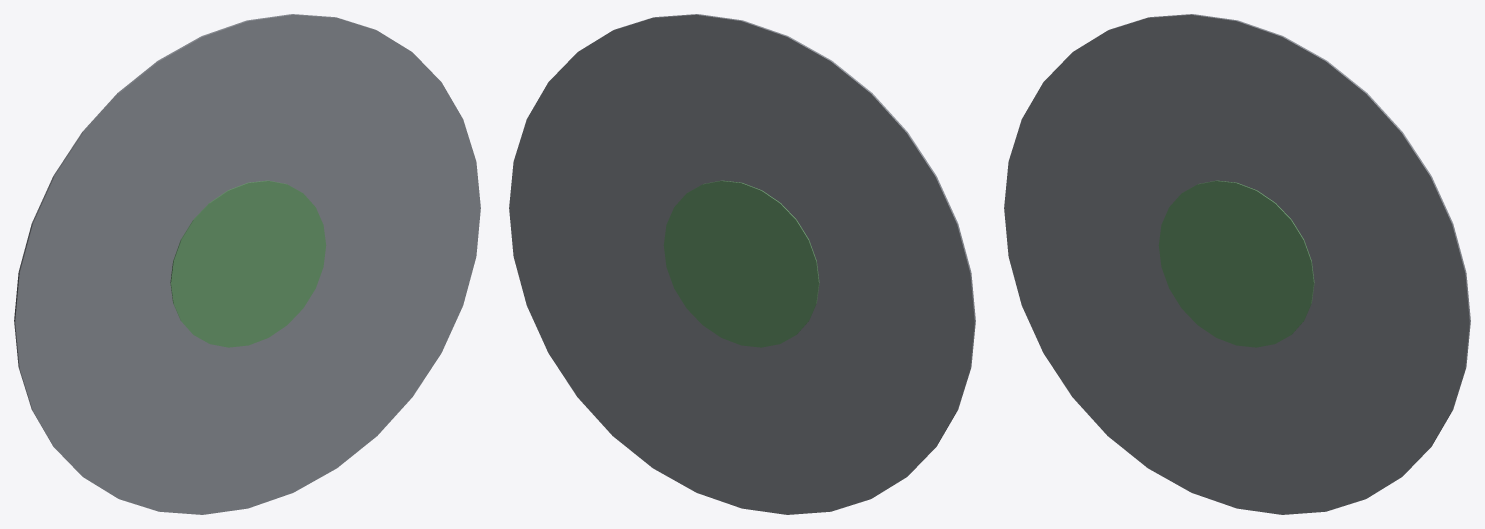
Rendered from inf_roundabout.glb.
The picture shows the model from 3 angles, left to right: view 1: azimuth 30°, elevation 25°; view 2: azimuth 150°, elevation 25°; view 3: azimuth 330°, elevation 25°; orthographic projection.
Parts seen in each view (by area): view 1: world; view 2: world; view 3: world.
Part boxes in pixels (<box>): world: <box>14,14,480,514</box>; world: <box>509,14,975,514</box>; world: <box>1004,14,1470,514</box>.
Bounding box in the file's own units: 12 × 12 × 0.1.
